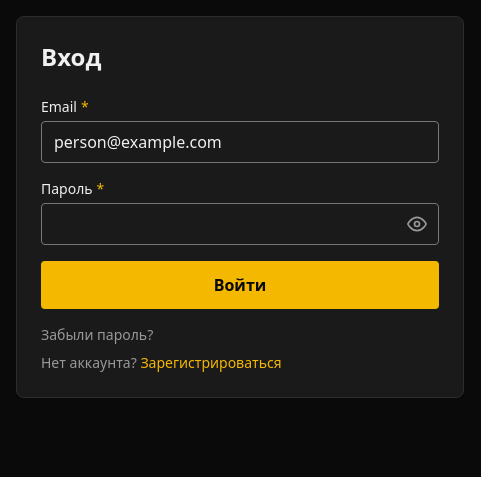
Test: pending and error handling › keeps a failed login with Email не подтверждён или аккаунт неактивен. on a correctable screen
Type "password123" into the password field with id "login-password" at x=240, y=224, box [41, 203, 439, 245]
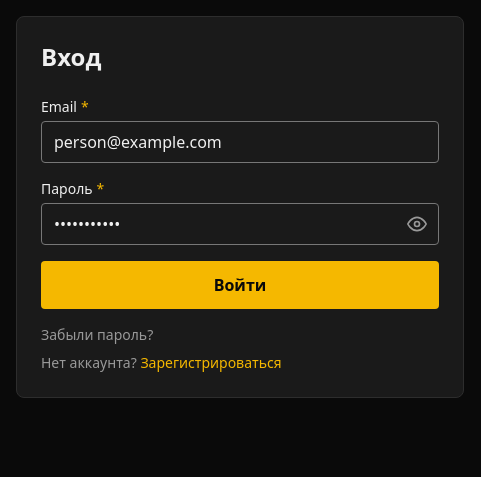
Submit the form, box [41, 97, 439, 309]
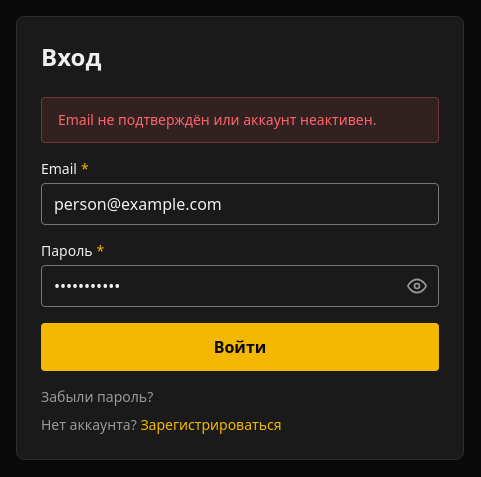
Expected: the field with id "login-email" holds "person@example.com", [41, 183, 439, 225]
Expected: the message reads "Email не подтверждён или аккаунт неактивен.", [58, 110, 376, 129]
